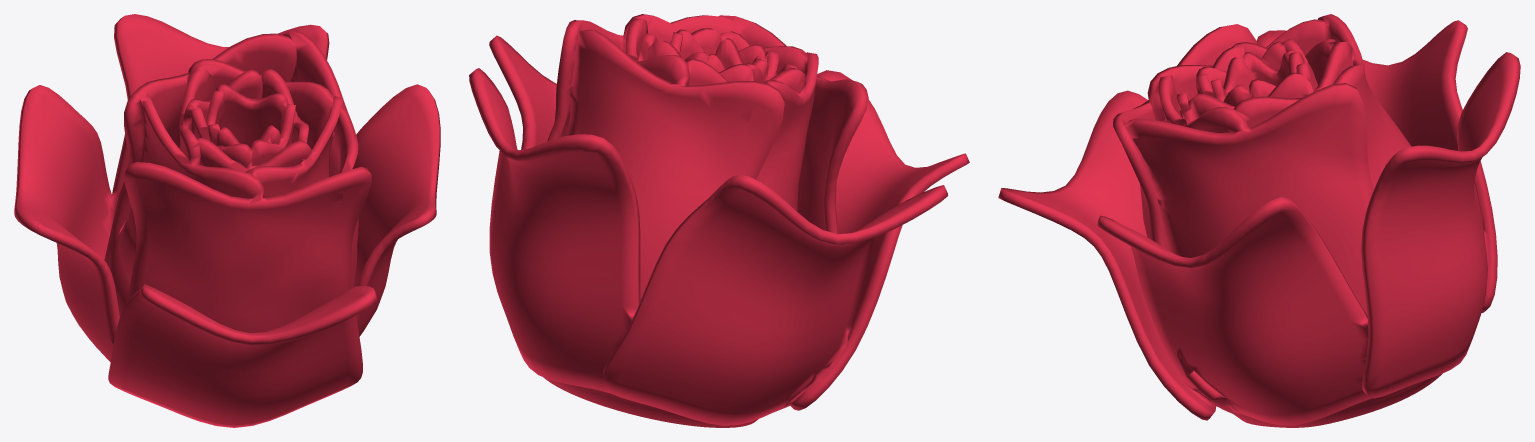
The model's file is rose.glb.
3 views of the same model, side by side, from view 1: azimuth 30°, elevation 25°; view 2: azimuth 150°, elevation 25°; view 3: azimuth 270°, elevation 25° (orthographic). The views are drawn at different scales.
Parts seen in each view (by area): view 1: node_id30; view 2: node_id30; view 3: node_id30.
Boxes of the visible parts, x1,y1,x2,y2 form: node_id30: [14, 14, 440, 427]; node_id30: [469, 14, 969, 427]; node_id30: [998, 14, 1520, 427].
Bounding box in the file's own units: 0.5198 × 0.4092 × 0.5275.
1 material, 1 textured.
